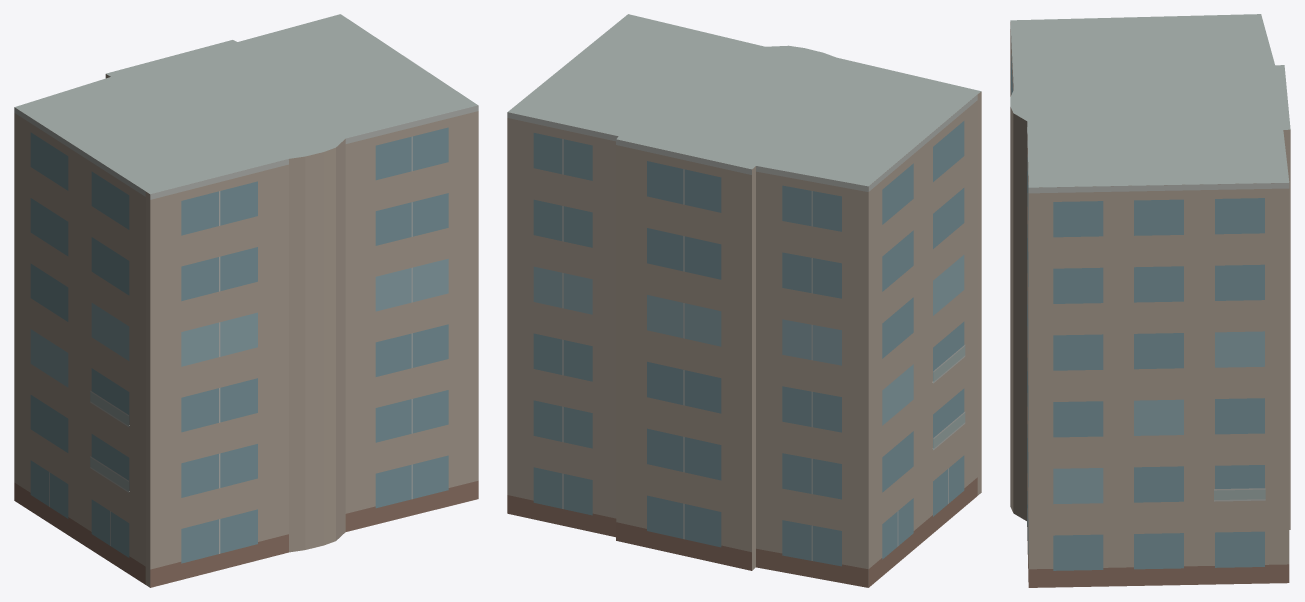
The model's file is survey-upis-32884992.glb.
3 views of the same model, side by side, from view 1: azimuth 30°, elevation 25°; view 2: azimuth 150°, elevation 25°; view 3: azimuth 270°, elevation 25° (orthographic). The views are drawn at different scales.
Parts seen in each view (by area): view 1: survey-upis-32884992.tmp; view 2: survey-upis-32884992.tmp; view 3: survey-upis-32884992.tmp.
Boxes of the visible parts, x1,y1,x2,y2 form: survey-upis-32884992.tmp: (14,14,478,587); survey-upis-32884992.tmp: (507,14,981,587); survey-upis-32884992.tmp: (1010,14,1290,587).
Bounding box in the file's own units: 15.92 × 17.1 × 10.86.
